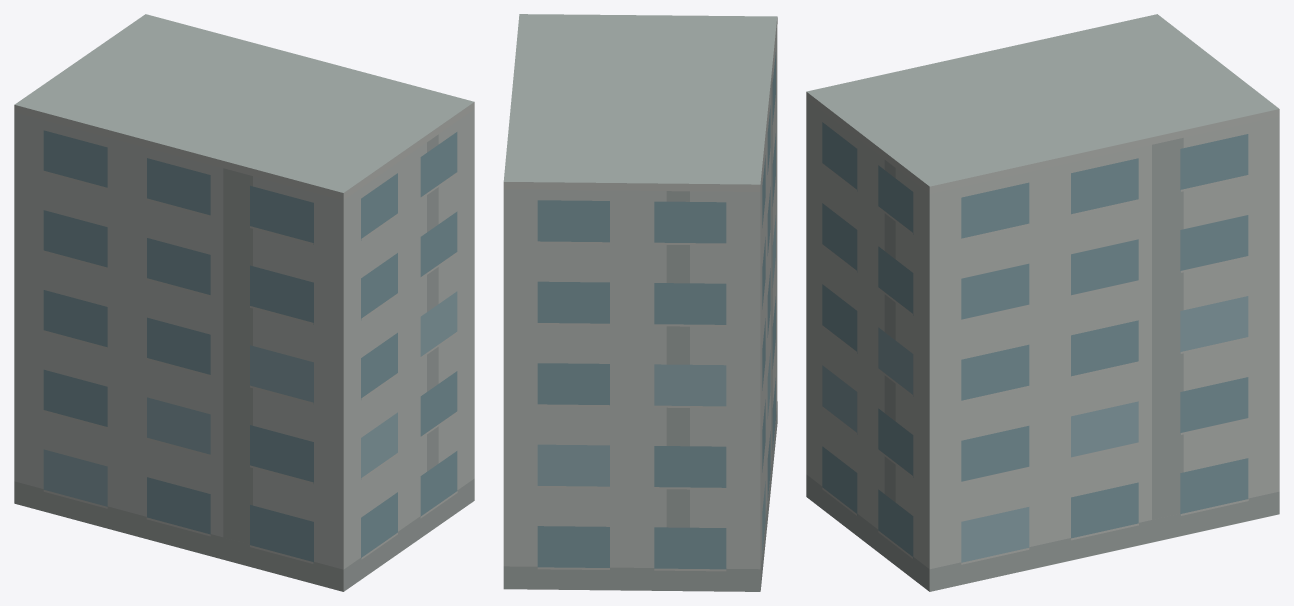
The model's file is survey-upis-32882710.glb.
The picture shows the model from 3 angles, left to right: view 1: azimuth 30°, elevation 25°; view 2: azimuth 150°, elevation 25°; view 3: azimuth 270°, elevation 25°; orthographic projection. The views are drawn at different scales.
Visible parts, largest first — view 1: survey-upis-32882710.tmp; view 2: survey-upis-32882710.tmp; view 3: survey-upis-32882710.tmp.
Part boxes in pixels (x1,y1,x2,y2): survey-upis-32882710.tmp: (14, 14, 474, 591); survey-upis-32882710.tmp: (503, 14, 777, 591); survey-upis-32882710.tmp: (806, 14, 1279, 591).
Size of the model in its own units: 12.02 by 13.15 by 13.93.
